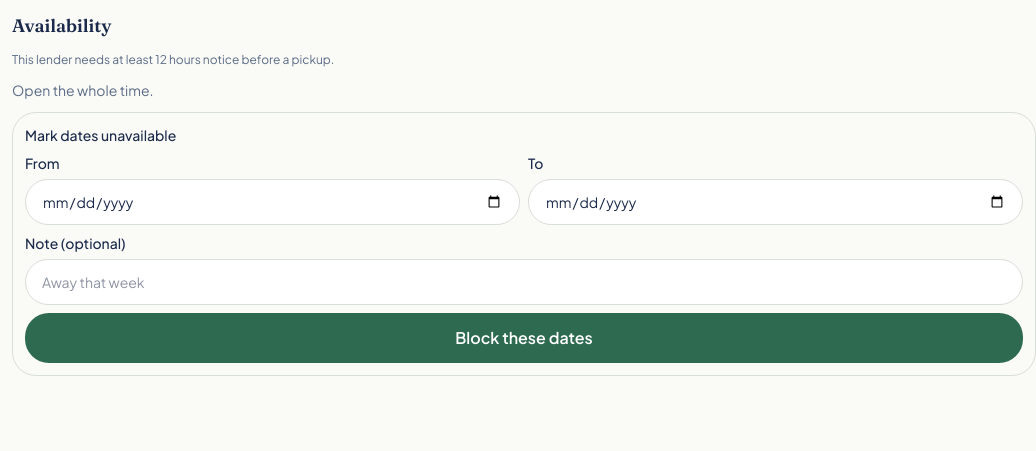
Test: AvailabilityCalendar › refuses to submit a window without dates
Expected: the text "Mark dates unavailable" is shown, x1=25 y1=126 x2=176 y2=144
Click the button "Block these dates".
click(524, 338)  # box x1=25 y1=313 x2=1023 y2=363
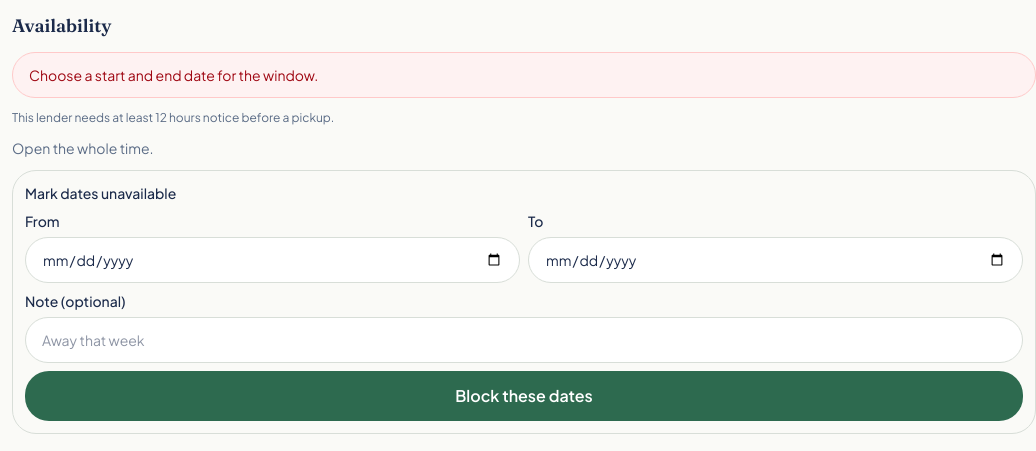
Expected: the message "Choose a start and end date for the window." is shown, x1=12 y1=52 x2=1035 y2=98
